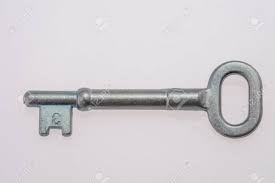key: (20, 59, 265, 142)
